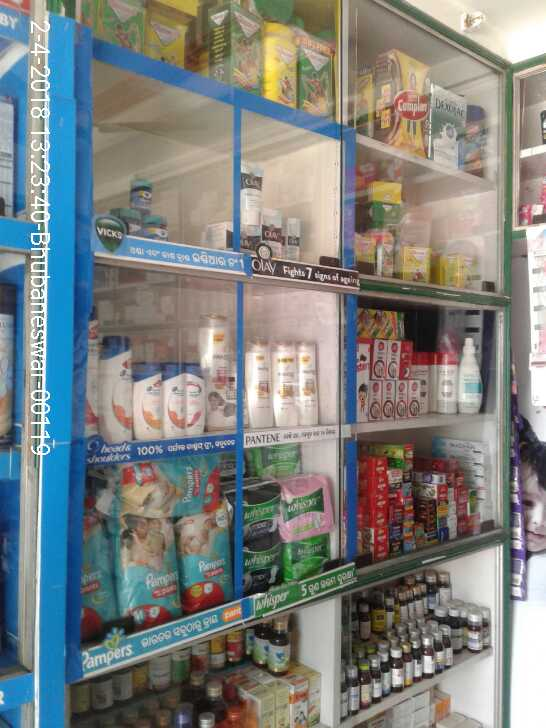vicks: (118, 210, 142, 235), (133, 179, 152, 207), (143, 215, 169, 235)
